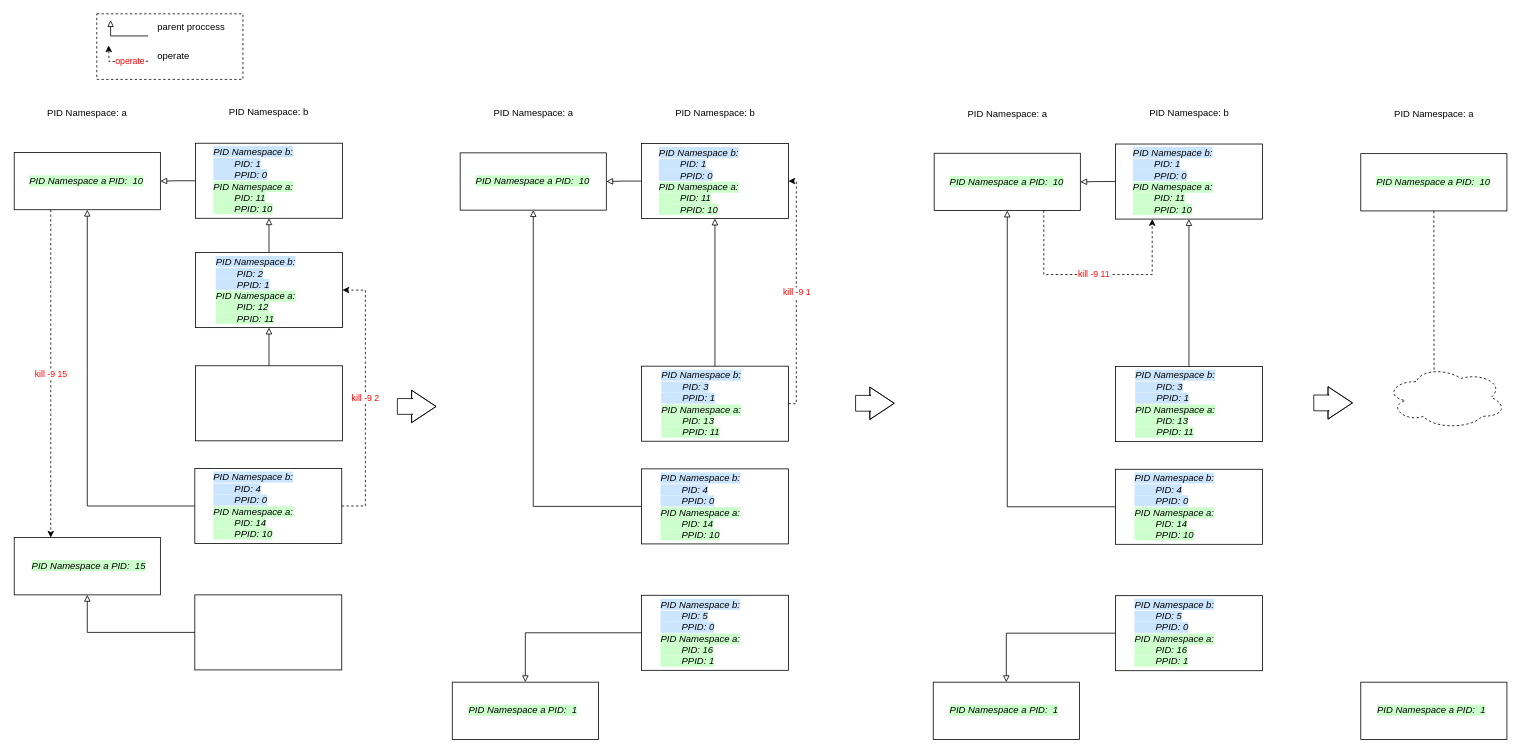
Image size: 1521x754. Some labels were removed from this diagram. The box of each missing label's shape, as (x1, y1, x2, y2) in pixels:
Must Register SIGCHLD Handler: (1385, 365, 1506, 429)
PID Namespace b: PID: 3 PPID: 2 PID Namespace a: PID: 13 PPID: 12: (195, 365, 342, 441)
PID Namespace b: PID: 5 PPID: 0 PID Namespace a: PID: 16 PPID: 15: (194, 594, 342, 670)
